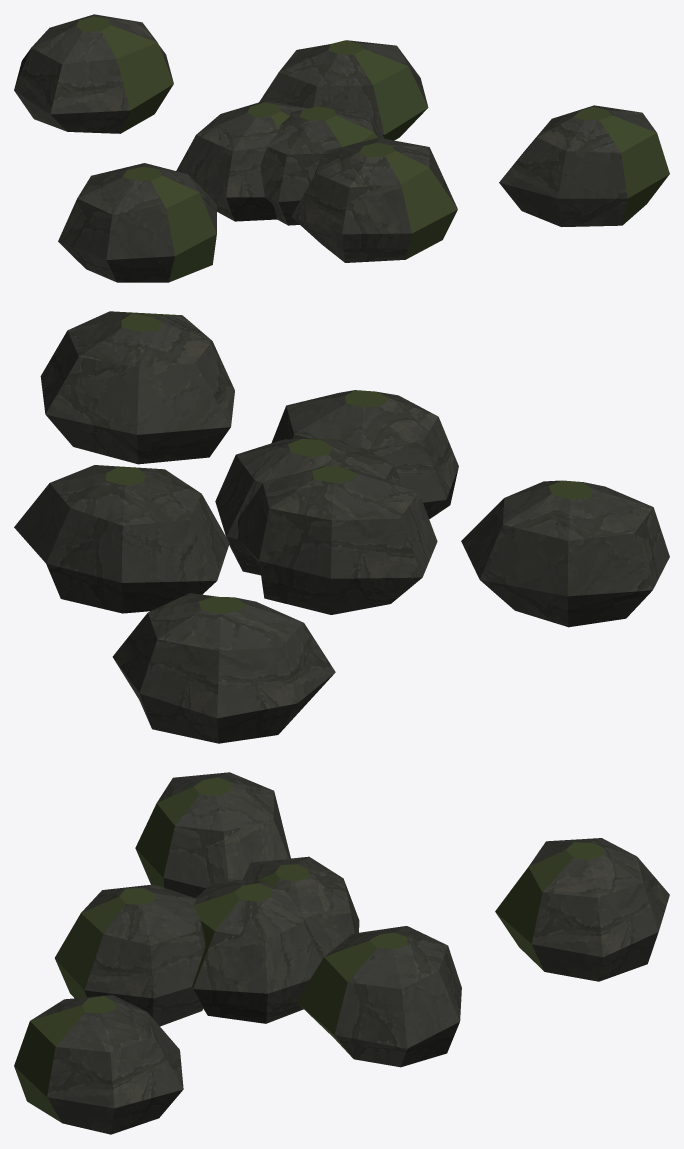
3 renders of one model, top to bottom at view 1: azimuth 30°, elevation 25°; view 2: azimuth 150°, elevation 25°; view 3: azimuth 270°, elevation 25°, orthographic. The views are drawn at different scales.
Parts seen in each view (by area): view 1: Weathered faceted boulder; view 2: Weathered faceted boulder; view 3: Weathered faceted boulder.
Boxes of the visible parts, box(x1,y1,x2,y2) form: Weathered faceted boulder: box(14, 14, 669, 282); Weathered faceted boulder: box(14, 311, 669, 743); Weathered faceted boulder: box(14, 772, 669, 1134).
Bounding box in the file's own units: 2.47 × 0.375 × 2.28.
2 materials, 1 textured.
